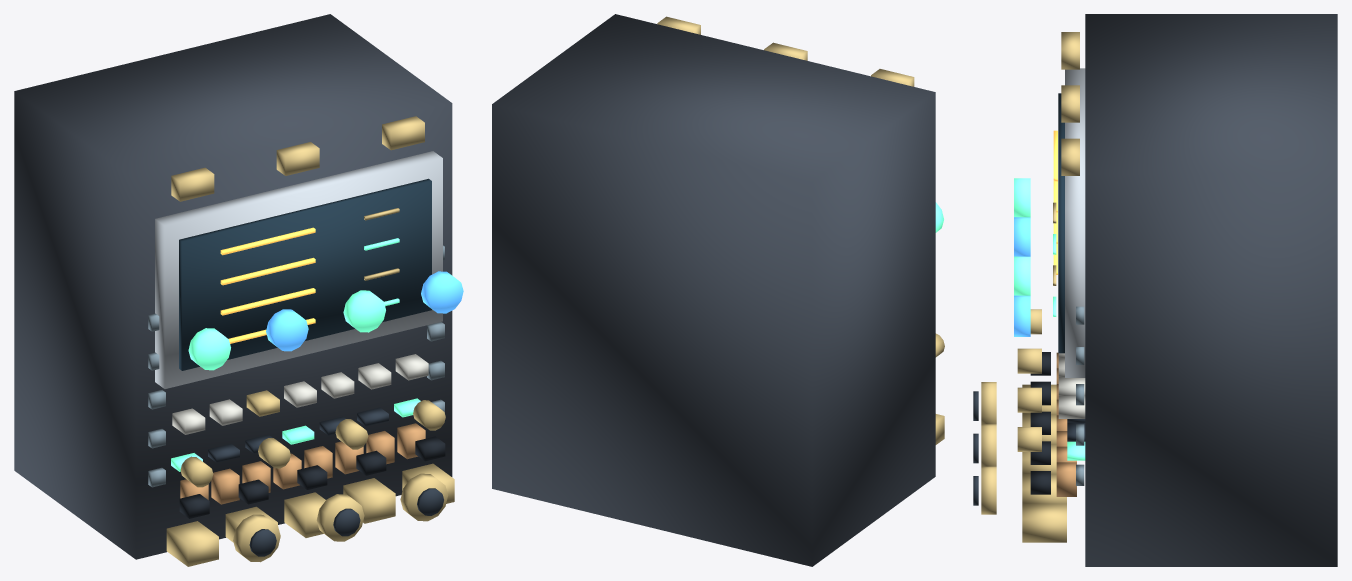
The model's file is 31_L93_CTPowerIsolationPanel.glb.
3 views of the same model, side by side, from view 1: azimuth 30°, elevation 25°; view 2: azimuth 150°, elevation 25°; view 3: azimuth 270°, elevation 25° (orthographic). The views are drawn at different scales.
Visible parts, largest first — view 1: L92_CTPowerIsolationPanel_Part_0000, L92_CTPowerIsolationPanel_Part_0002, L92_CTPowerIsolationPanel_Part_0001, L92_CTPowerIsolationPanel_Part_0004, L92_CTPowerIsolationPanel_Part_0009, L92_CTPowerIsolationPanel_Part_0006, L92_CTPowerIsolationPanel_Part_0005, L92_CTPowerIsolationPanel_Part_0010, L92_CTPowerIsolationPanel_Part_0011, L92_CTPowerIsolationPanel_Part_0003, L92_CTPowerIsolationPanel_Part_0008, L92_CTPowerIsolationPanel_Part_0007 (+6 smaller); view 2: L92_CTPowerIsolationPanel_Part_0000, L92_CTPowerIsolationPanel_Part_0004; view 3: L92_CTPowerIsolationPanel_Part_0000, L92_CTPowerIsolationPanel_Part_0004, L92_CTPowerIsolationPanel_Part_0001, L92_CTPowerIsolationPanel_Part_0005, L92_CTPowerIsolationPanel_Part_0010, L92_CTPowerIsolationPanel_Part_0002, L92_CTPowerIsolationPanel_Part_0009, L92_CTPowerIsolationPanel_Part_0011, L92_CTPowerIsolationPanel_Part_0006, L92_CTPowerIsolationPanel_Part_0008, L92_CTPowerIsolationPanel_Part_0018, L92_CTPowerIsolationPanel_Part_0014 (+2 smaller).
Part boxes in pixels (x1,y1,x2,y2): L92_CTPowerIsolationPanel_Part_0000: (14,14,452,559); L92_CTPowerIsolationPanel_Part_0002: (179,178,431,370); L92_CTPowerIsolationPanel_Part_0001: (155,151,442,388); L92_CTPowerIsolationPanel_Part_0004: (166,116,454,566); L92_CTPowerIsolationPanel_Part_0009: (180,423,425,504); L92_CTPowerIsolationPanel_Part_0006: (172,354,428,434); L92_CTPowerIsolationPanel_Part_0005: (171,238,420,471); L92_CTPowerIsolationPanel_Part_0010: (179,436,445,518); L92_CTPowerIsolationPanel_Part_0011: (266,271,463,351); L92_CTPowerIsolationPanel_Part_0003: (220,227,315,343); L92_CTPowerIsolationPanel_Part_0008: (148,245,444,487); L92_CTPowerIsolationPanel_Part_0007: (208,407,388,462); L92_CTPowerIsolationPanel_Part_0000: (492,14,935,566); L92_CTPowerIsolationPanel_Part_0004: (657,16,944,444); L92_CTPowerIsolationPanel_Part_0000: (1085,14,1337,566); L92_CTPowerIsolationPanel_Part_0004: (1017,32,1079,542); L92_CTPowerIsolationPanel_Part_0001: (1065,68,1085,377); L92_CTPowerIsolationPanel_Part_0005: (1014,178,1085,460); L92_CTPowerIsolationPanel_Part_0010: (1030,352,1050,494); L92_CTPowerIsolationPanel_Part_0002: (1058,93,1064,353); L92_CTPowerIsolationPanel_Part_0009: (1056,352,1076,496); L92_CTPowerIsolationPanel_Part_0011: (1014,217,1030,336); L92_CTPowerIsolationPanel_Part_0006: (1058,353,1085,418); L92_CTPowerIsolationPanel_Part_0008: (1076,306,1084,485); L92_CTPowerIsolationPanel_Part_0018: (981,466,996,514); L92_CTPowerIsolationPanel_Part_0014: (981,382,996,424).
Bounding box in the file's own units: 1.02 × 1.17 × 0.982.
